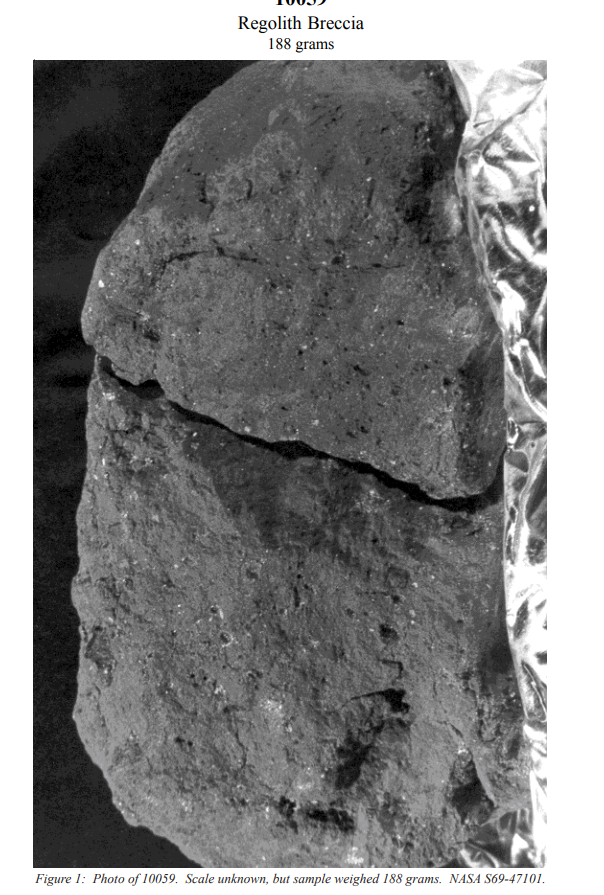Breccia: (33, 60, 492, 870), (202, 278, 451, 845)
